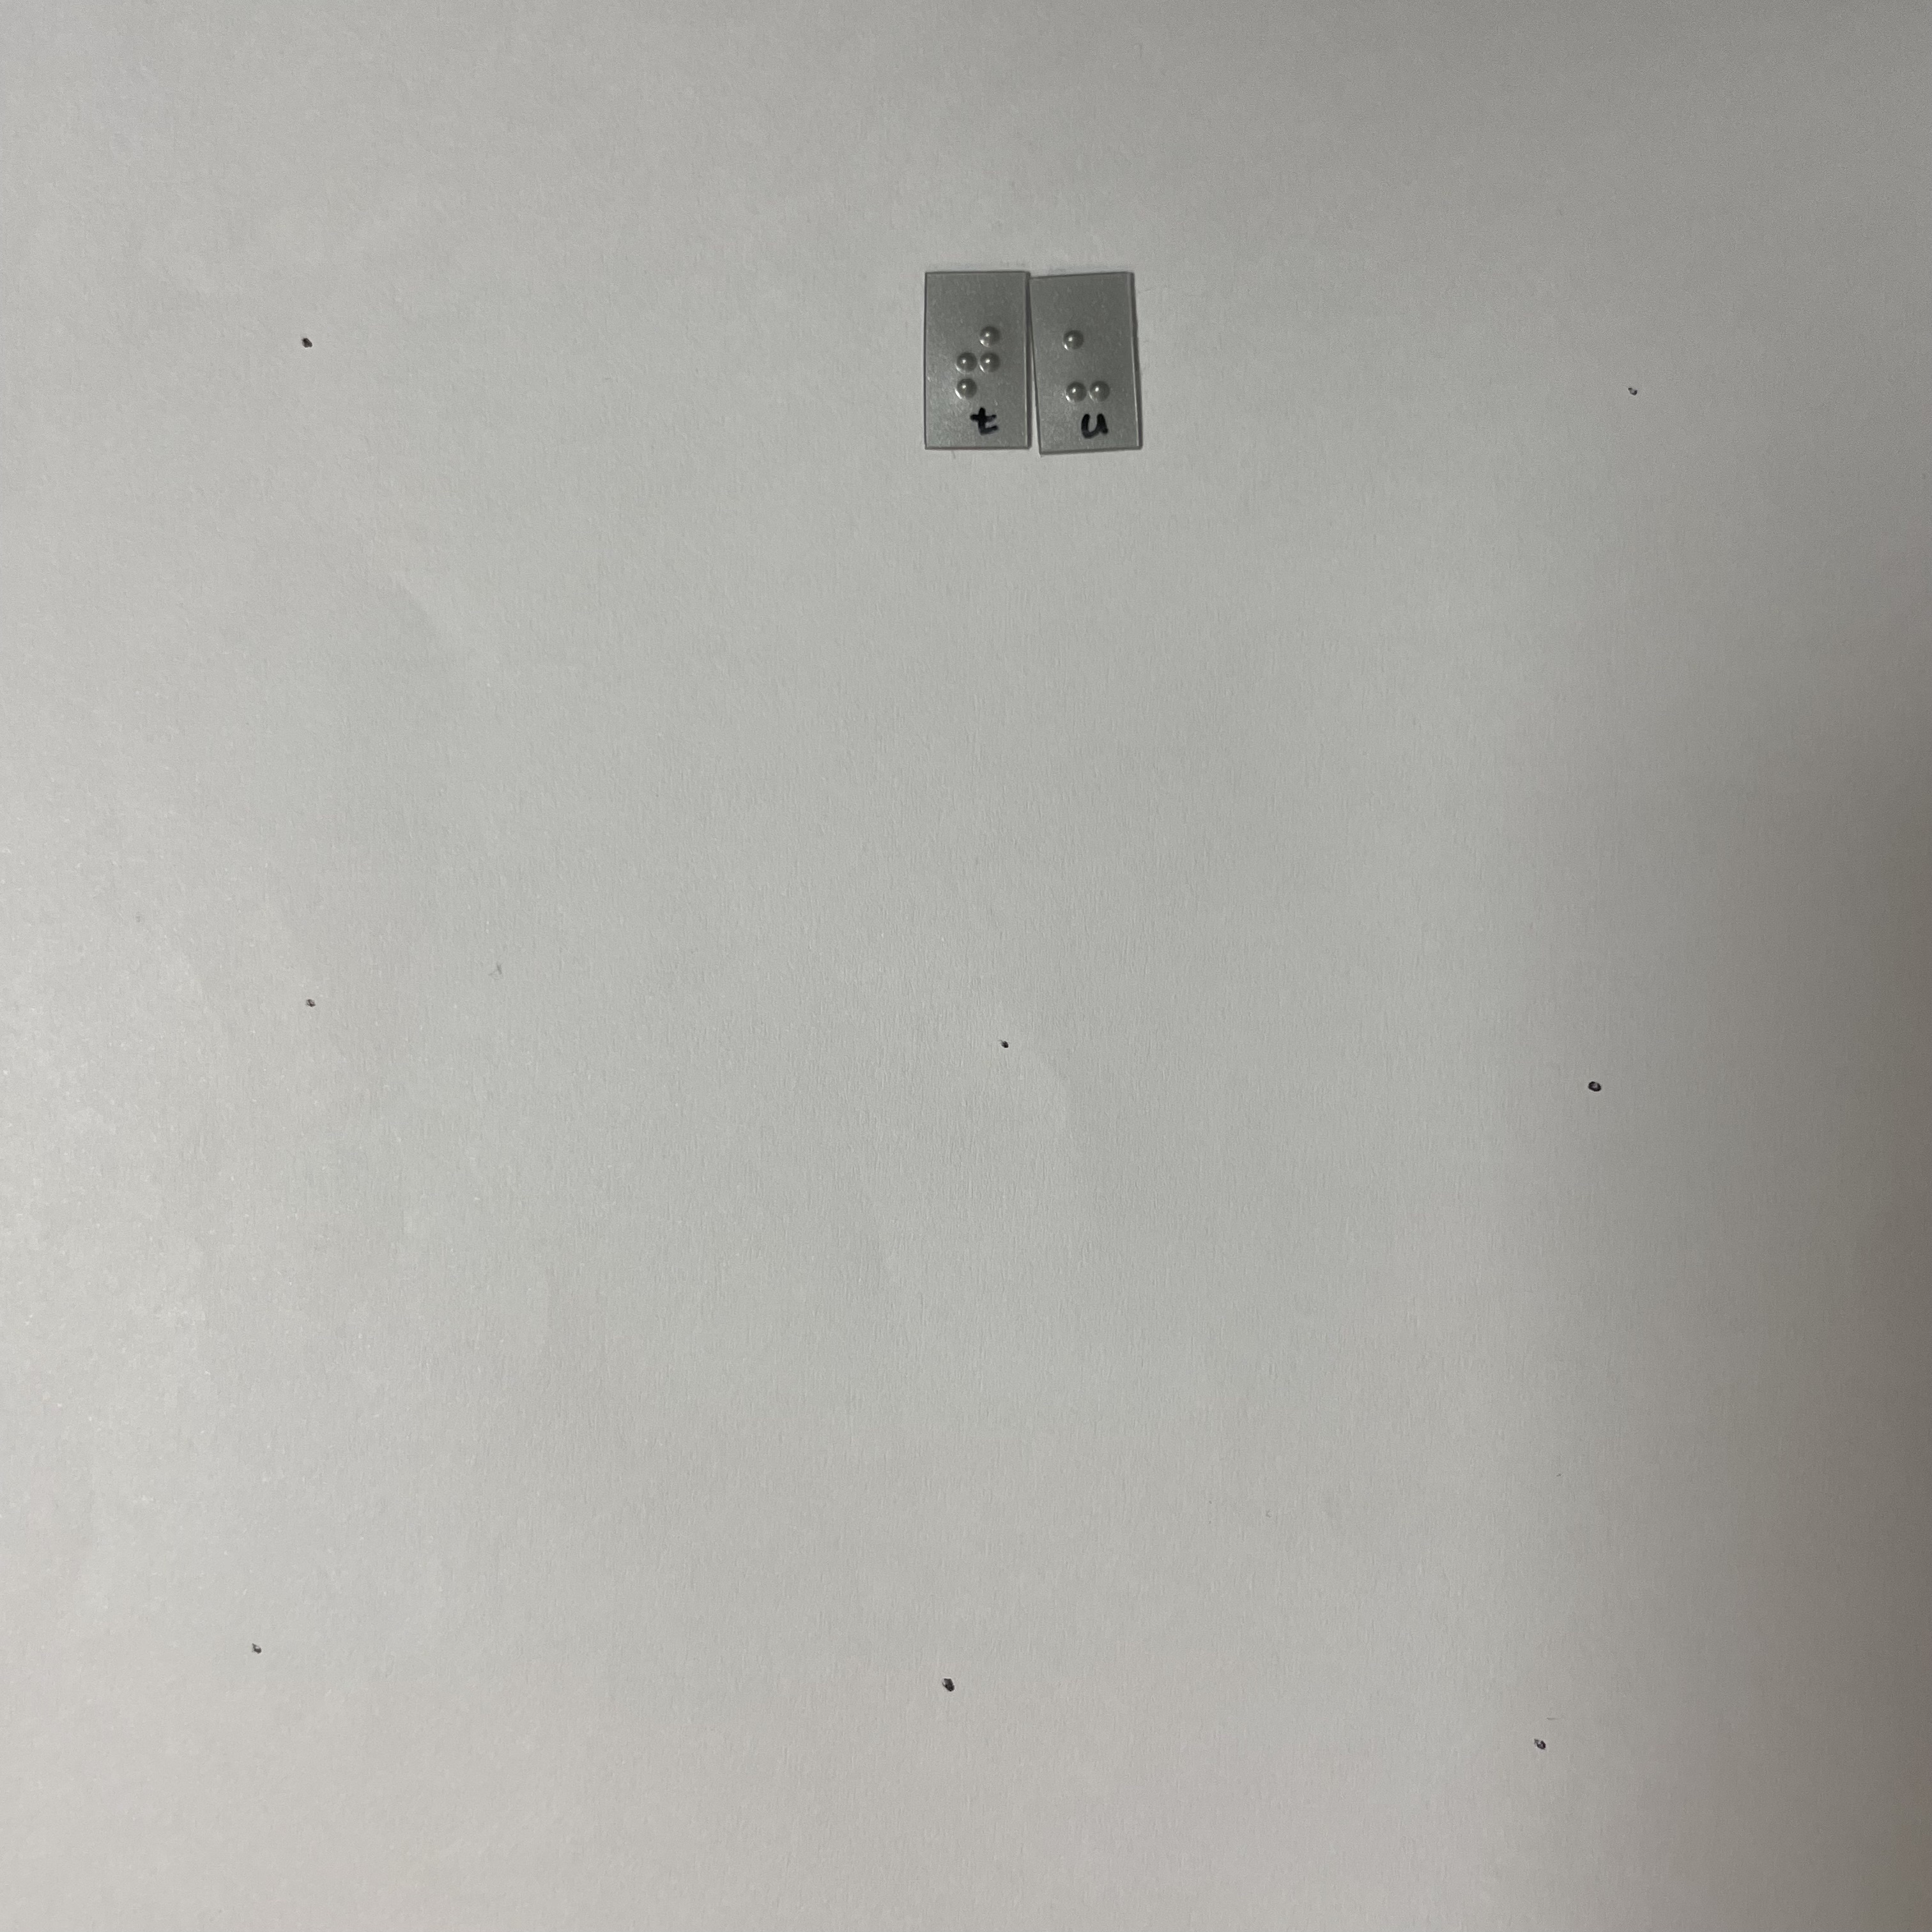t: (944, 315, 1015, 407)
u: (1053, 318, 1119, 412)
